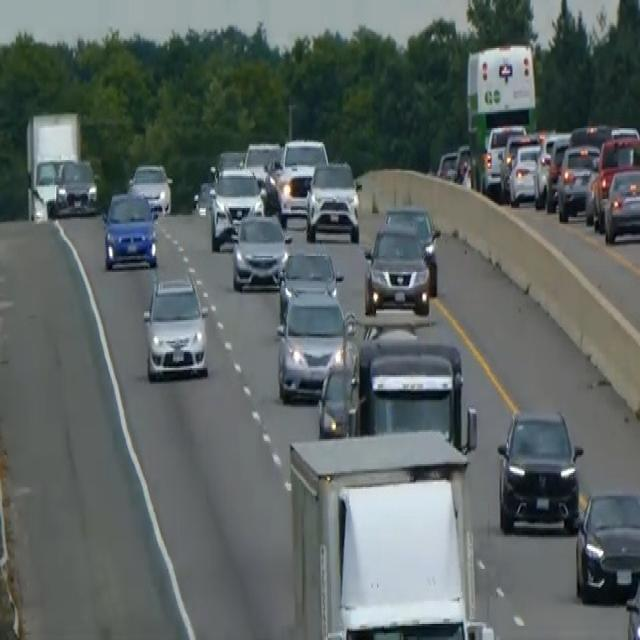bus: (464, 41, 538, 194)
car: (495, 406, 583, 534), (275, 286, 350, 402), (574, 487, 639, 603), (363, 222, 432, 316), (381, 203, 440, 293), (585, 133, 639, 230), (231, 210, 290, 292), (304, 158, 361, 242), (277, 246, 343, 318), (208, 165, 263, 249), (102, 188, 158, 270), (316, 338, 362, 437), (274, 137, 328, 217), (556, 140, 598, 220), (482, 123, 525, 192), (603, 164, 639, 244), (533, 132, 570, 208), (128, 160, 172, 215), (55, 156, 98, 212), (507, 140, 542, 207), (243, 138, 282, 186), (280, 135, 328, 173), (625, 566, 639, 638), (213, 148, 245, 176), (192, 178, 215, 215)
lorry: (356, 332, 470, 450), (24, 108, 81, 220)
minivan: (141, 270, 210, 384)
truck: (286, 427, 495, 638)
